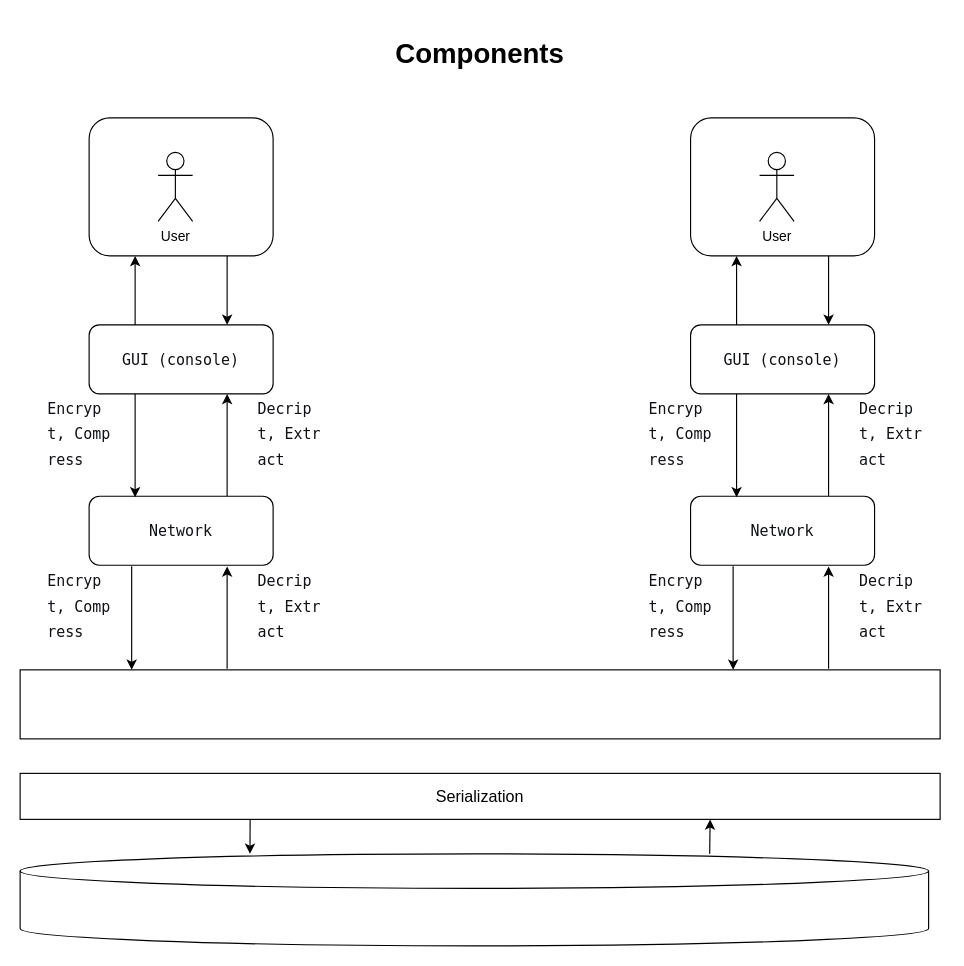
This 964x966 diagram has some shape labels left out. Here are the shapes that lost their labels. From the top down, the centre of each, then its label:
At point (479, 704): "Server".
At point (474, 899): "File System".
